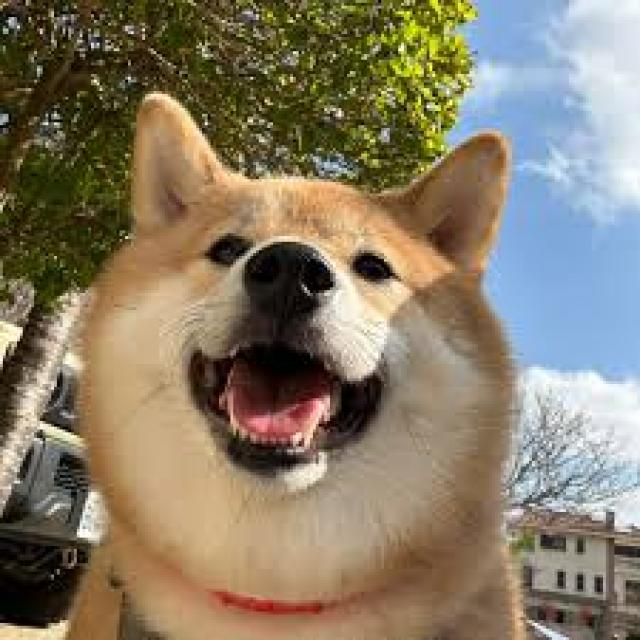dog: (52, 93, 527, 640)
